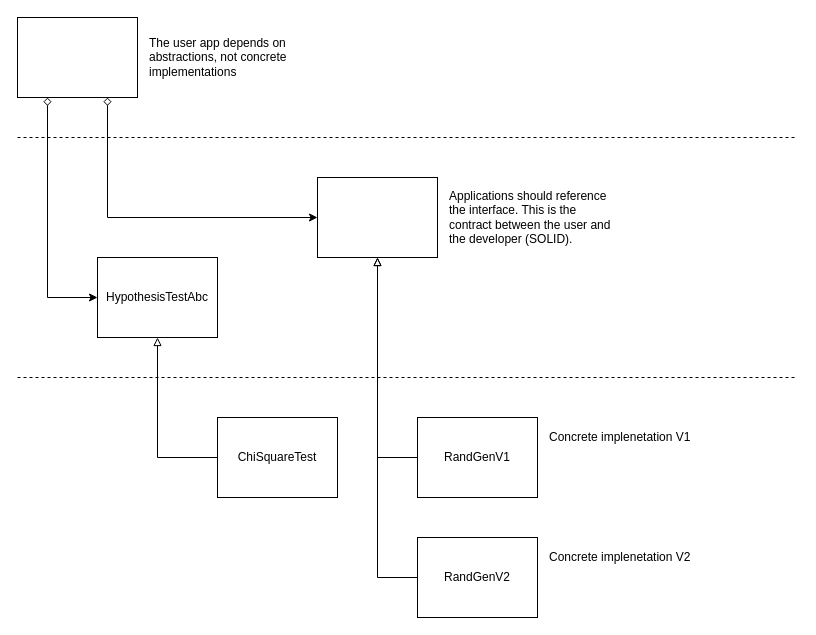
This 816x635 diagram has some shape labels left out. The centre of each missing label's shape, as x and y in pixels:
"App" belongs at (77,57).
"RandomGenAbc" belongs at (377,217).
